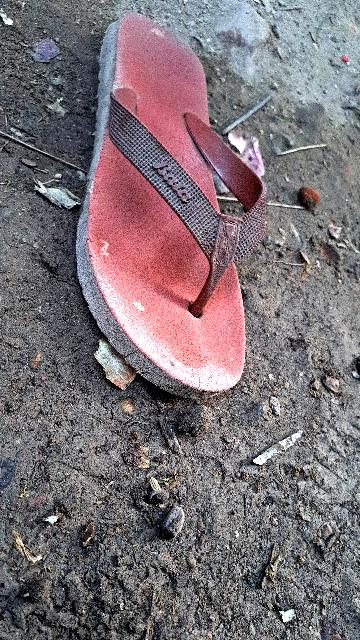sandal: (64, 11, 266, 395)
